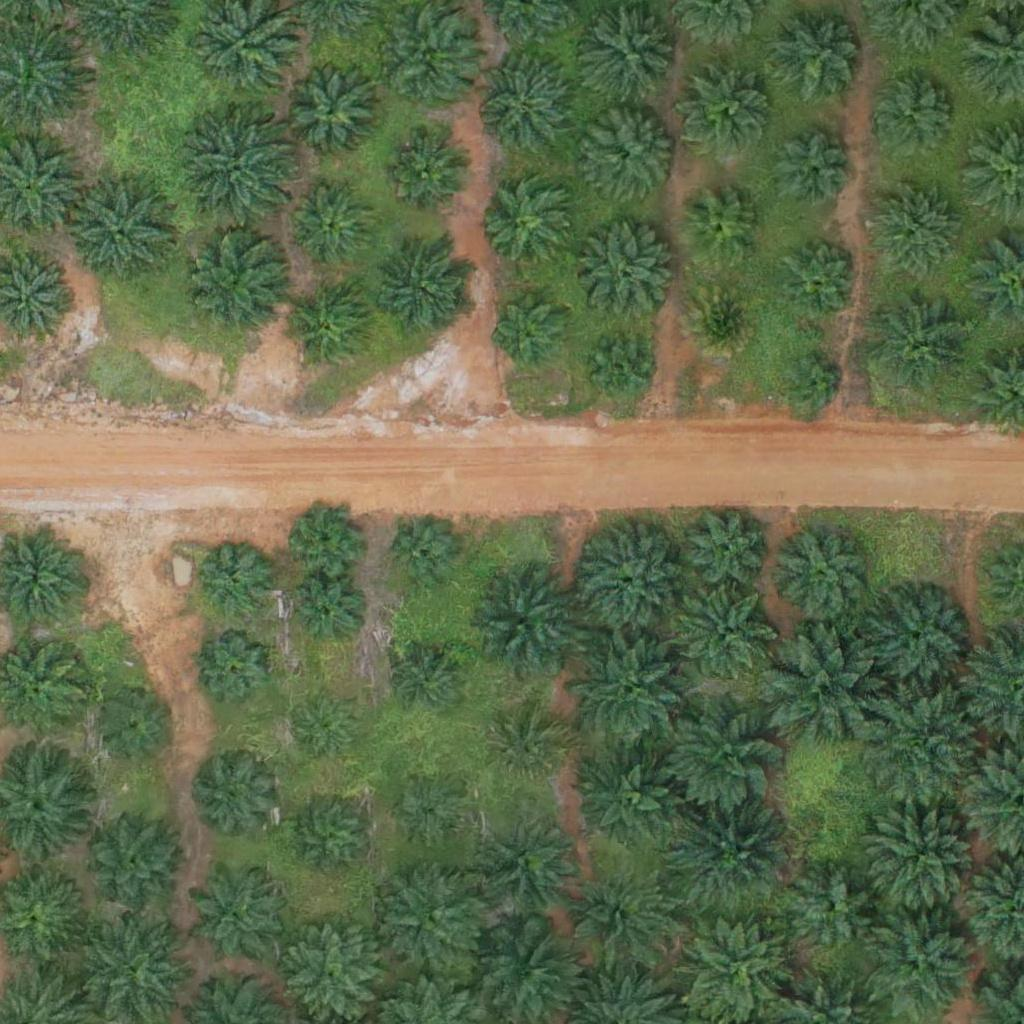Kelapa_Sawit: (460, 562, 585, 688), (567, 623, 692, 749), (662, 693, 787, 819), (759, 626, 884, 752), (862, 685, 987, 811), (868, 803, 981, 917), (183, 112, 296, 225), (866, 908, 979, 1021), (376, 859, 488, 972), (576, 745, 688, 858), (563, 861, 675, 974), (675, 798, 787, 911), (200, 3, 300, 104), (376, 239, 476, 340), (189, 225, 289, 326), (74, 182, 174, 283), (577, 526, 677, 627), (871, 291, 971, 391), (379, 19, 479, 119), (581, 105, 681, 205), (577, 223, 677, 323), (86, 816, 186, 916), (188, 865, 288, 965), (676, 583, 776, 683), (866, 589, 966, 689), (286, 281, 374, 370), (684, 68, 772, 156), (286, 68, 374, 156), (587, 8, 675, 96), (388, 129, 476, 217), (289, 180, 377, 268), (193, 751, 281, 839), (288, 794, 376, 882), (790, 864, 878, 952), (869, 68, 956, 156), (871, 180, 958, 268), (774, 17, 861, 105), (481, 63, 568, 151), (487, 182, 574, 270), (485, 817, 572, 905), (682, 504, 769, 592), (776, 530, 863, 618), (684, 193, 759, 269), (774, 132, 849, 208), (781, 241, 856, 317), (685, 282, 760, 358), (583, 331, 658, 407), (102, 692, 177, 768), (491, 710, 566, 785), (493, 290, 568, 365), (199, 543, 274, 618), (199, 635, 274, 710), (283, 501, 358, 576), (287, 579, 362, 654), (385, 516, 460, 591), (388, 646, 463, 721), (394, 776, 469, 851), (783, 354, 845, 417), (293, 698, 355, 761)
